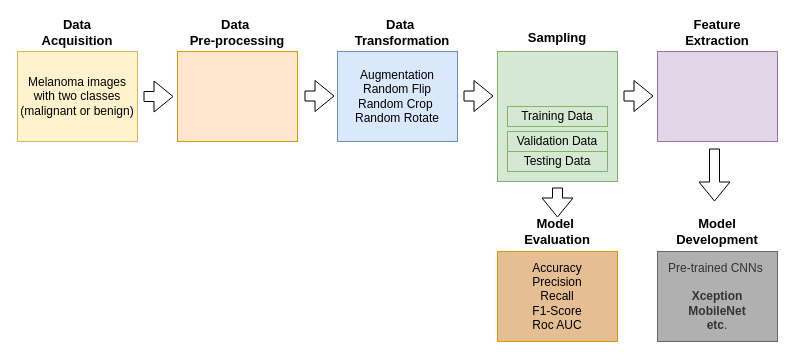
The diagram is 795 pixels wide and 359 high, and some of its shapes have lost their labels. The shapes that lost their labels are listed below. From the top down, each one's box as (x1, y1, x2, y2) in pixels, then its label:
(176, 50, 298, 142): Rescaling Center Crop Shuffling Normalization
(496, 50, 618, 182): Weighted sampler for handling class imbalance
(656, 50, 778, 142): Automated Feature Extraction
